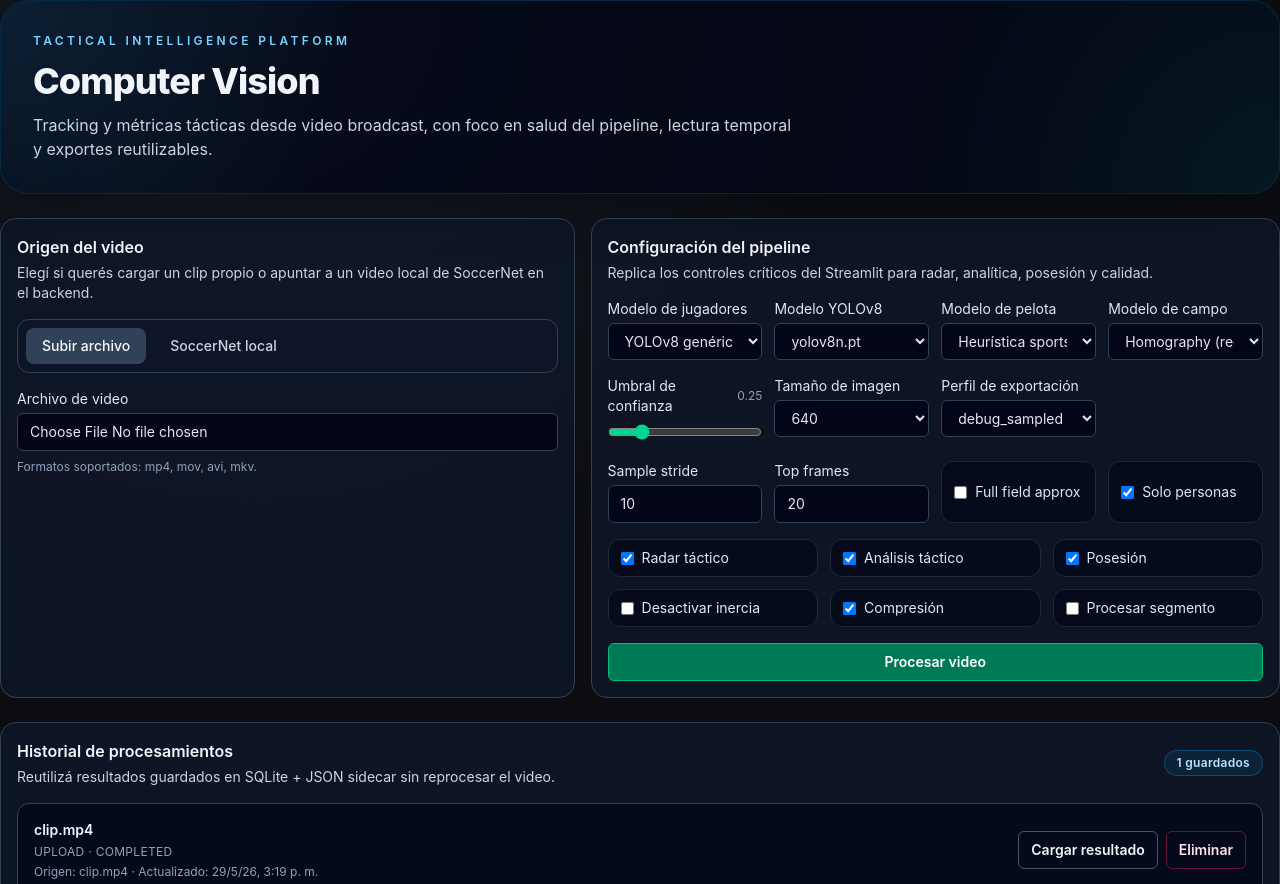
it: Vertical1Page › elimina un procesamiento guardado con confirmación
What coordinates should you click on to do the following:
click the button "Eliminar"
I would click on:
 (1206, 850)
Its box is [1166,831,1246,869].
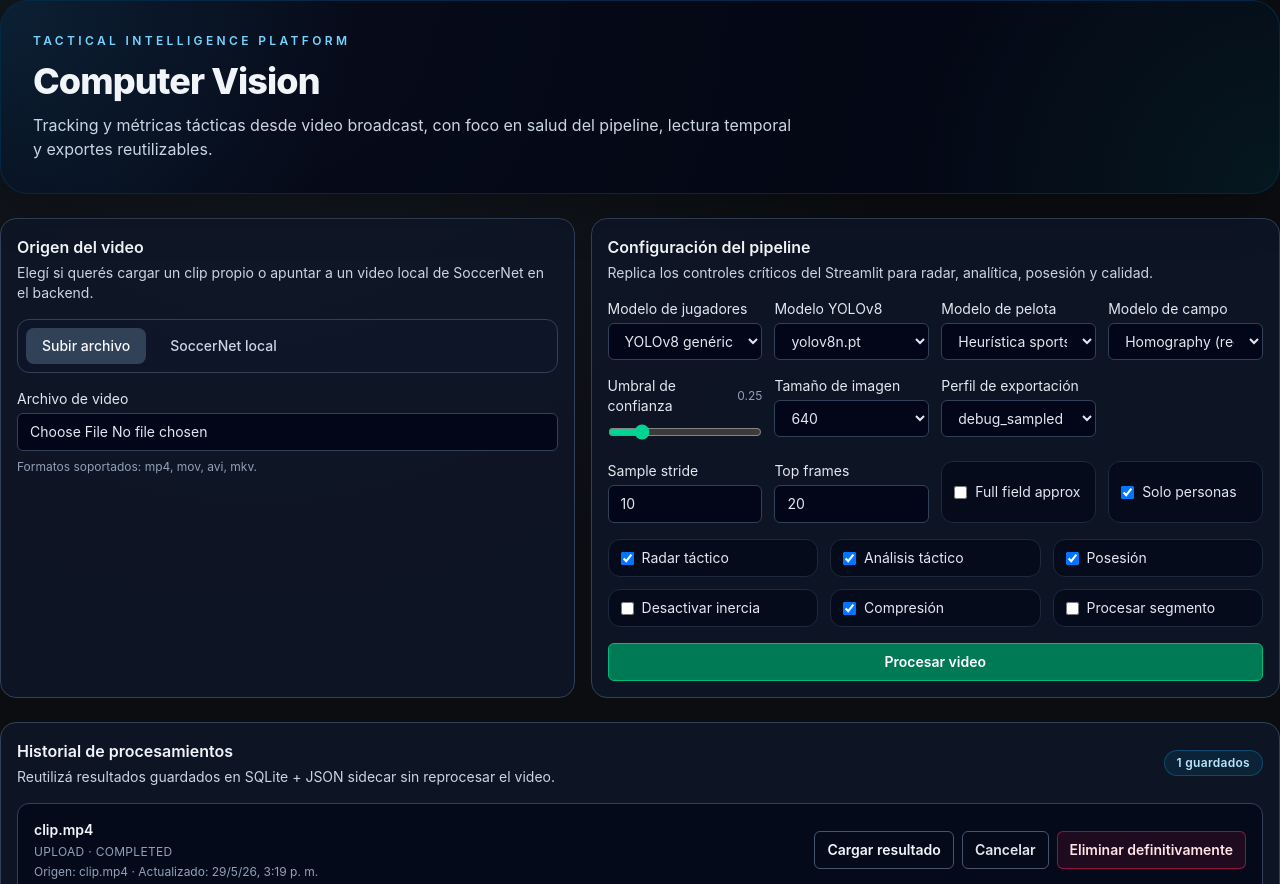
What coordinates should you click on to do the following:
click the button "Eliminar definitivamente"
I would click on:
 (1151, 850)
Its box is [1056,831,1246,869].
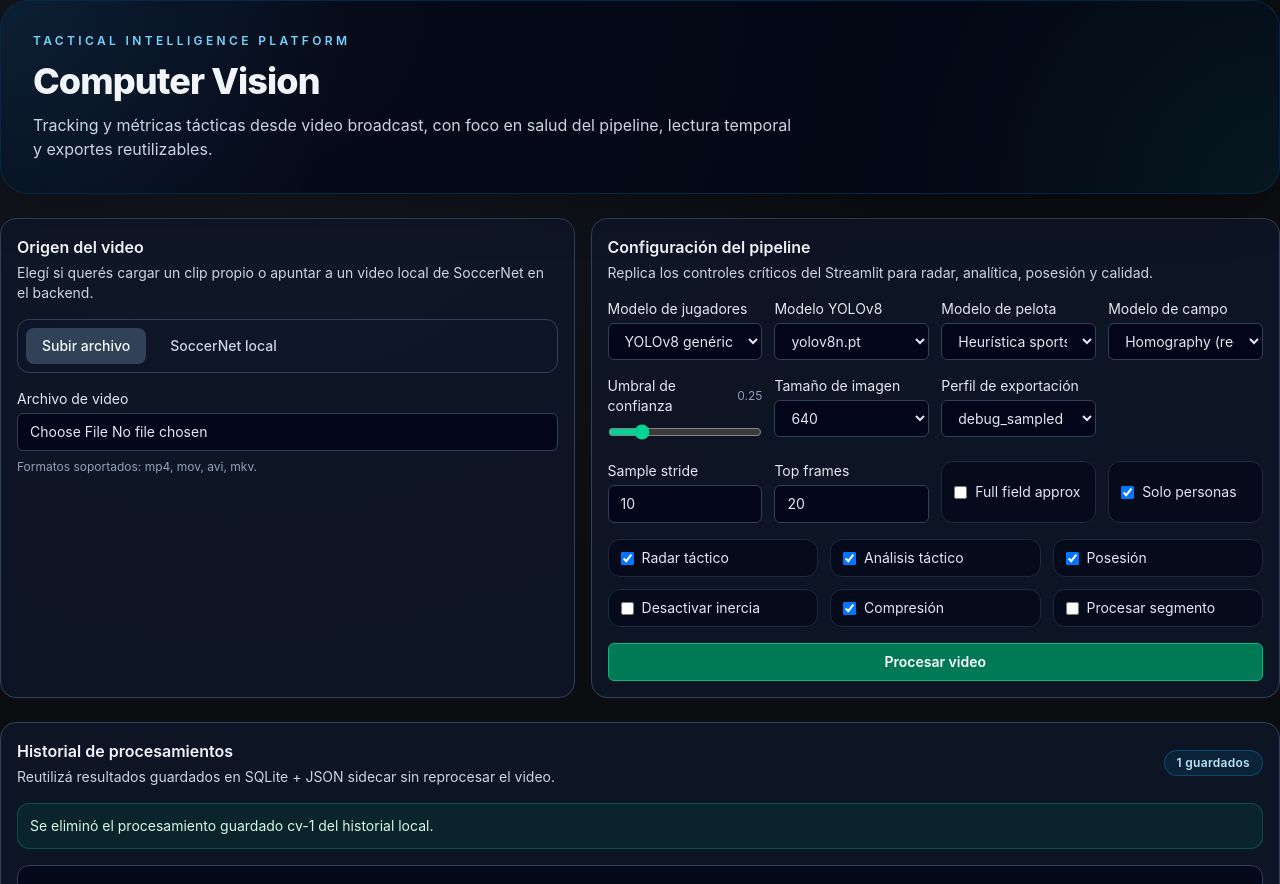
Result: the text "Se eliminó el procesamiento guardado cv-1" is shown at [30,817,433,834]
